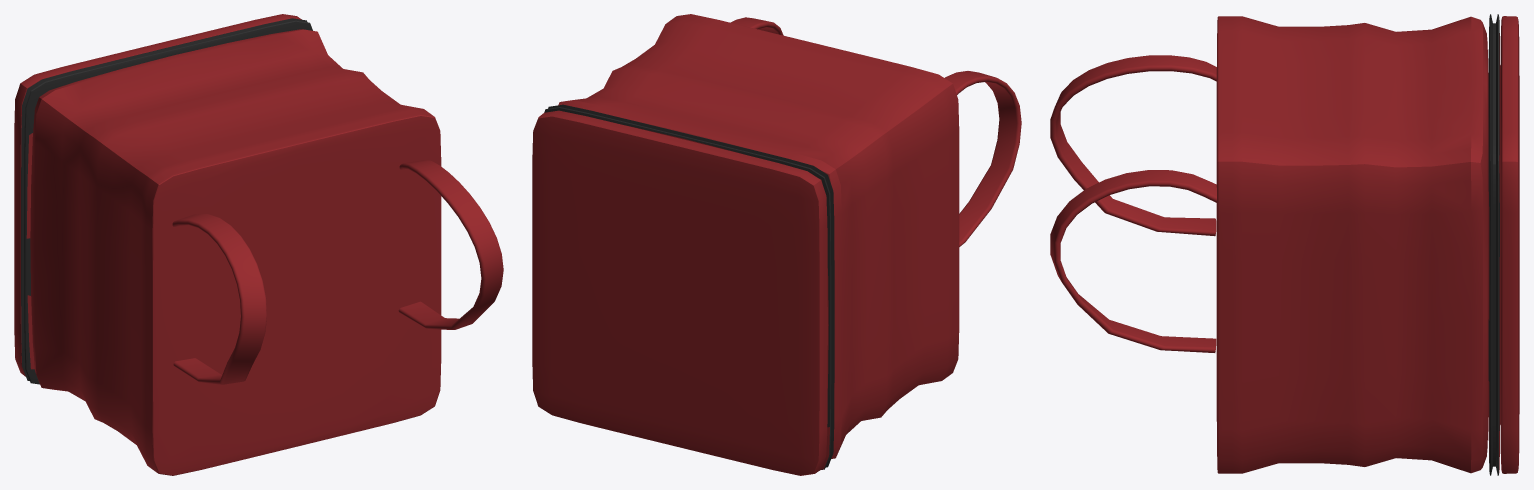
Rendered from Bag.fbx.
3 views of the same model, side by side, from view 1: azimuth 30°, elevation 25°; view 2: azimuth 150°, elevation 25°; view 3: azimuth 270°, elevation 25° (orthographic). The views are drawn at different scales.
Visible parts, largest first — view 1: Bag; view 2: Bag; view 3: Bag.
Boxes of the visible parts, box(x1,y1,x2,y2) form: Bag: box(14, 14, 503, 475); Bag: box(532, 14, 1021, 475); Bag: box(1050, 14, 1519, 475).
Bounding box in the file's own units: 50.34 × 50.34 × 65.03.
